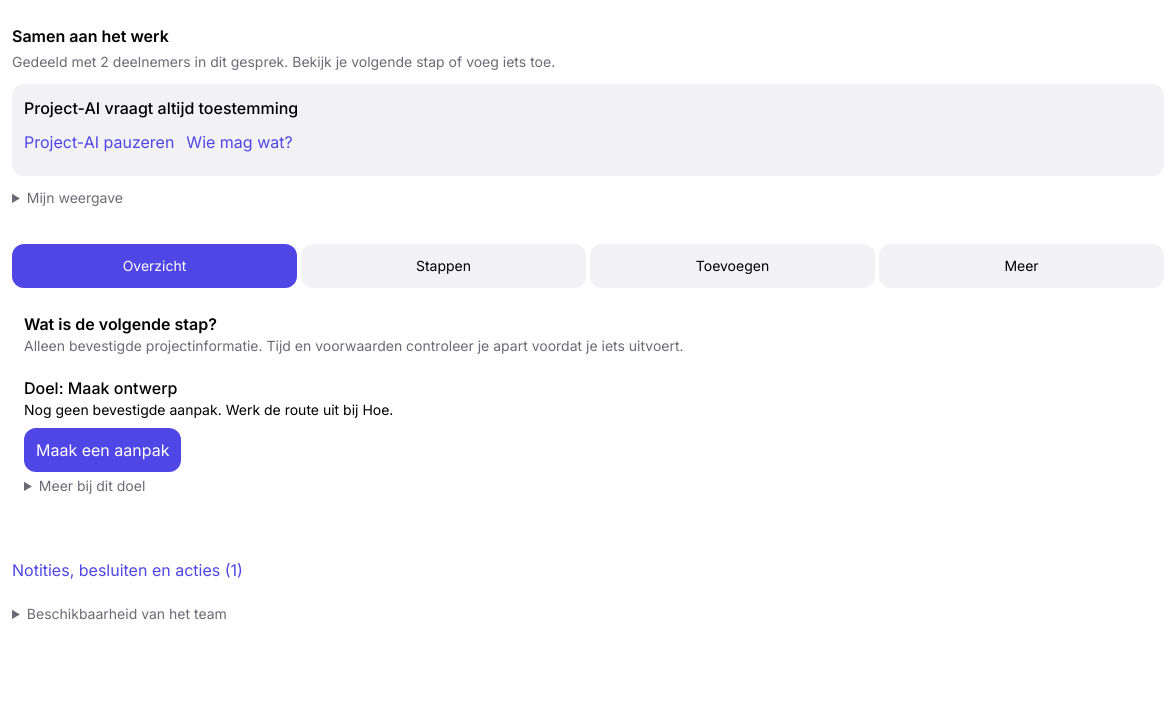
Test: oefent met taakverdeling zonder netwerk- of opslaghandeling
The width and height of the screenshot is (1176, 705).
Click the button with aria-label "Meer projectmogelijkheden". click: click(1022, 266)
box: [879,244,1164,288]
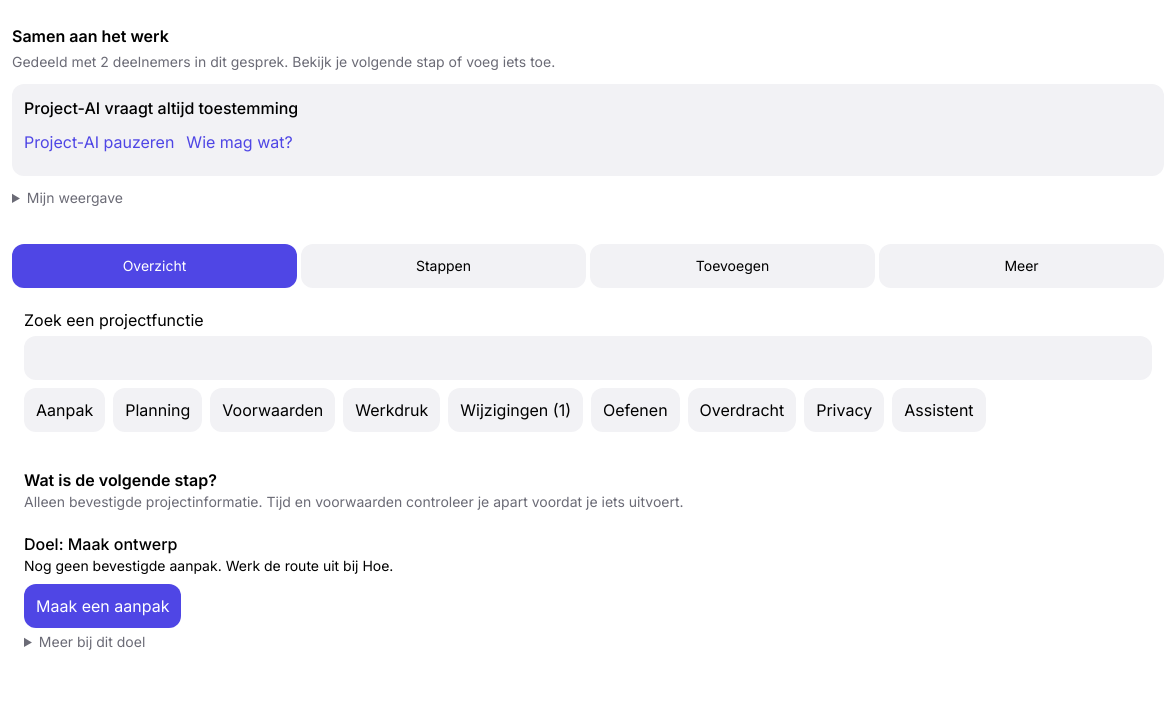
Click the button "Oefenen". click: click(635, 410)
box: [591,388,680,432]
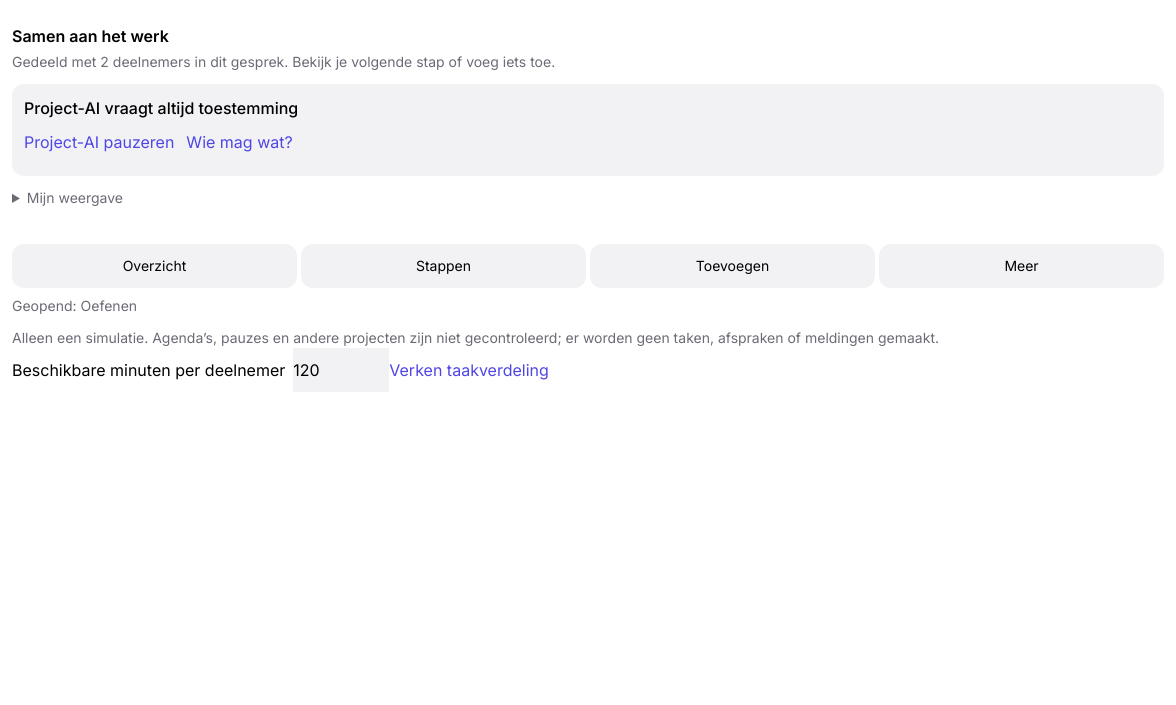
Click the button "Verken taakverdeling". click: click(469, 370)
box: [389,348,549,392]
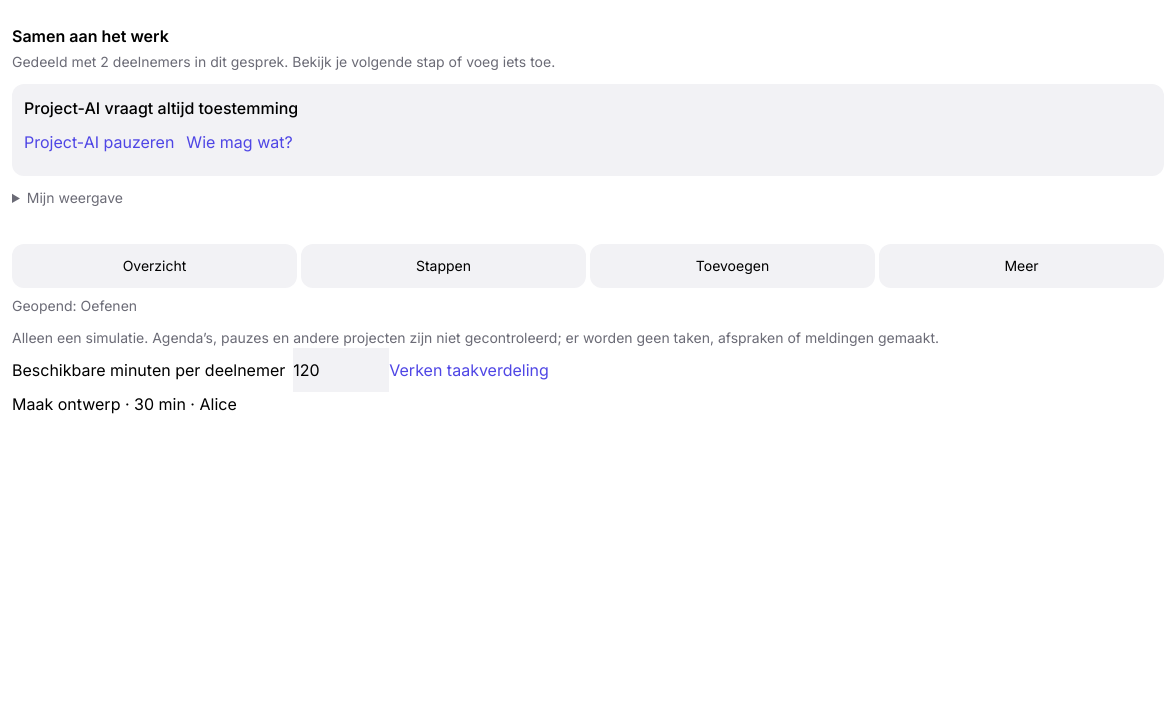
Now the text "Maak ontwerp · 30 min · Alice" is shown, box [12,394,237,414]
